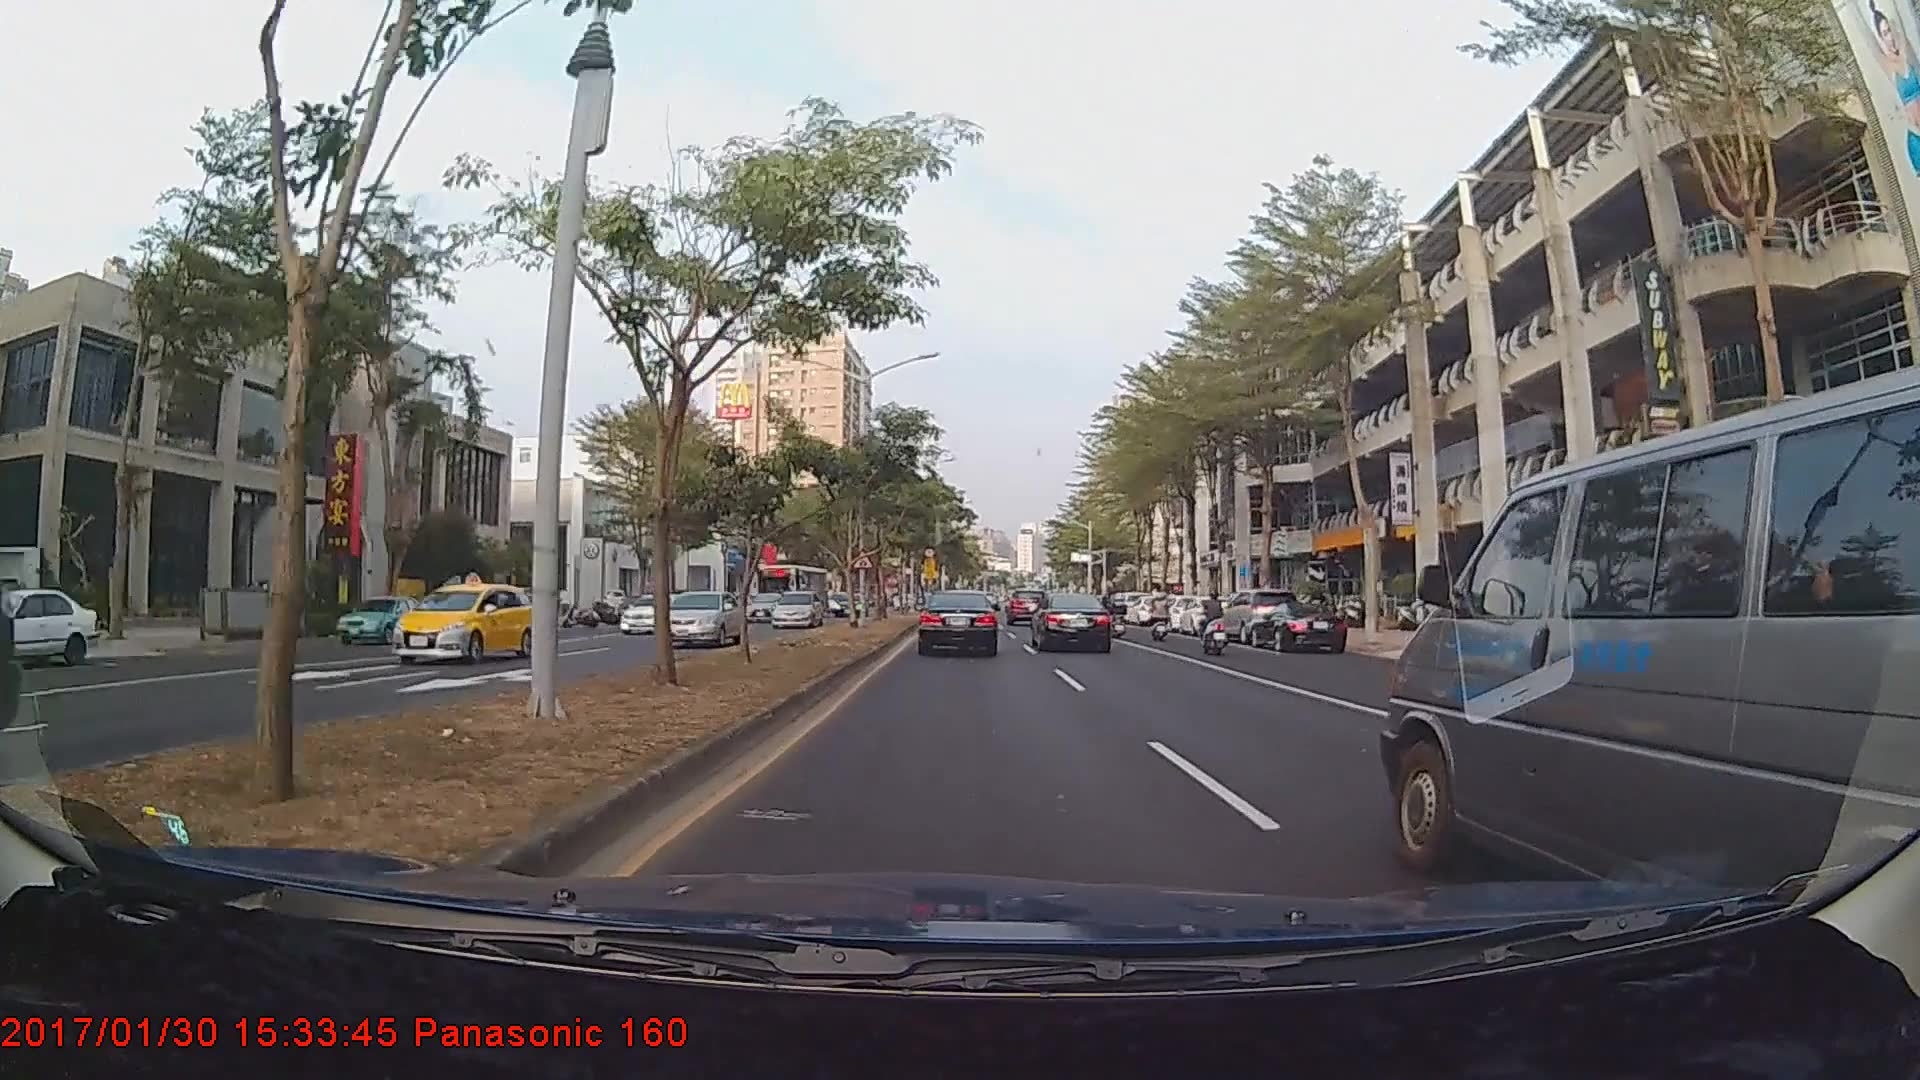rider: (1195, 591, 1238, 661), (1145, 588, 1175, 645), (1109, 590, 1130, 639)
vehicle: (1389, 398, 1908, 911), (389, 578, 539, 668), (916, 588, 1000, 659), (1031, 591, 1114, 654), (1219, 589, 1301, 647), (753, 564, 831, 625), (662, 591, 744, 648), (1251, 603, 1347, 652), (334, 595, 429, 644), (619, 592, 690, 635), (1178, 595, 1244, 636), (769, 590, 822, 631), (1006, 590, 1048, 627), (829, 591, 864, 618)
